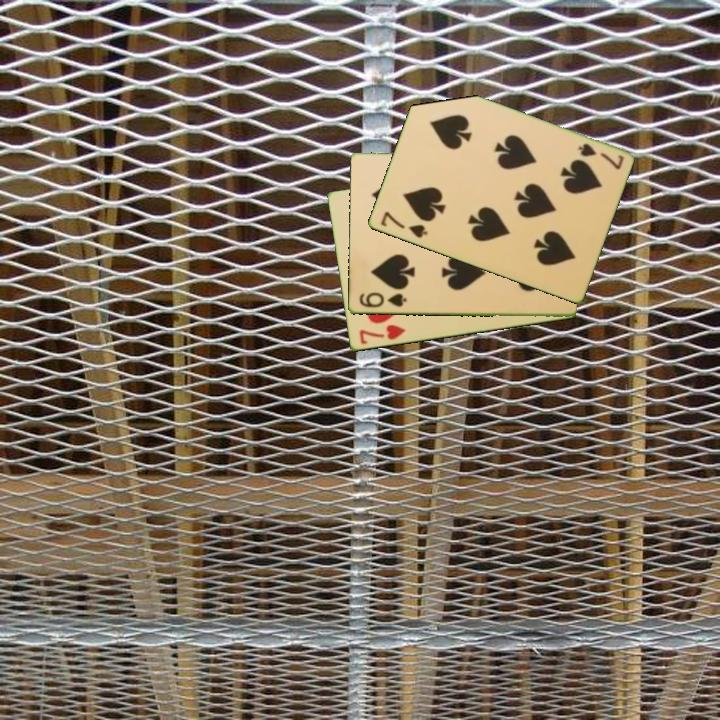6s: (355, 289, 409, 311)
7h: (355, 321, 408, 348)
7s: (377, 208, 430, 241), (574, 140, 626, 173)
